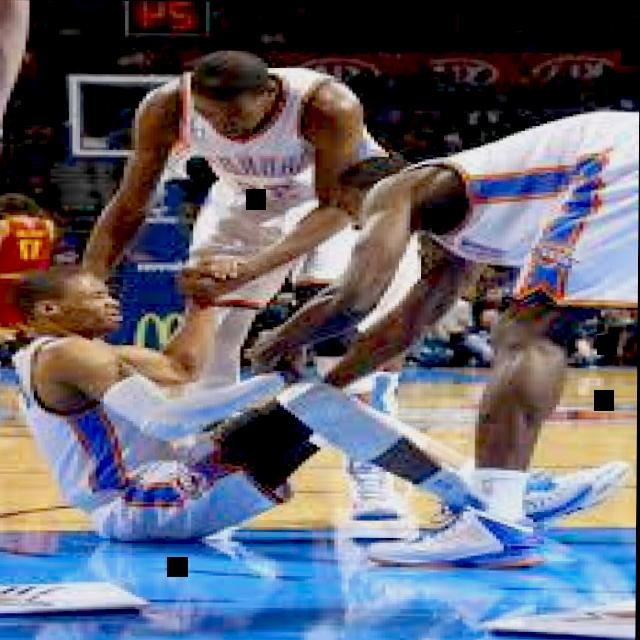Fall-Detected: (0, 247, 624, 558)
